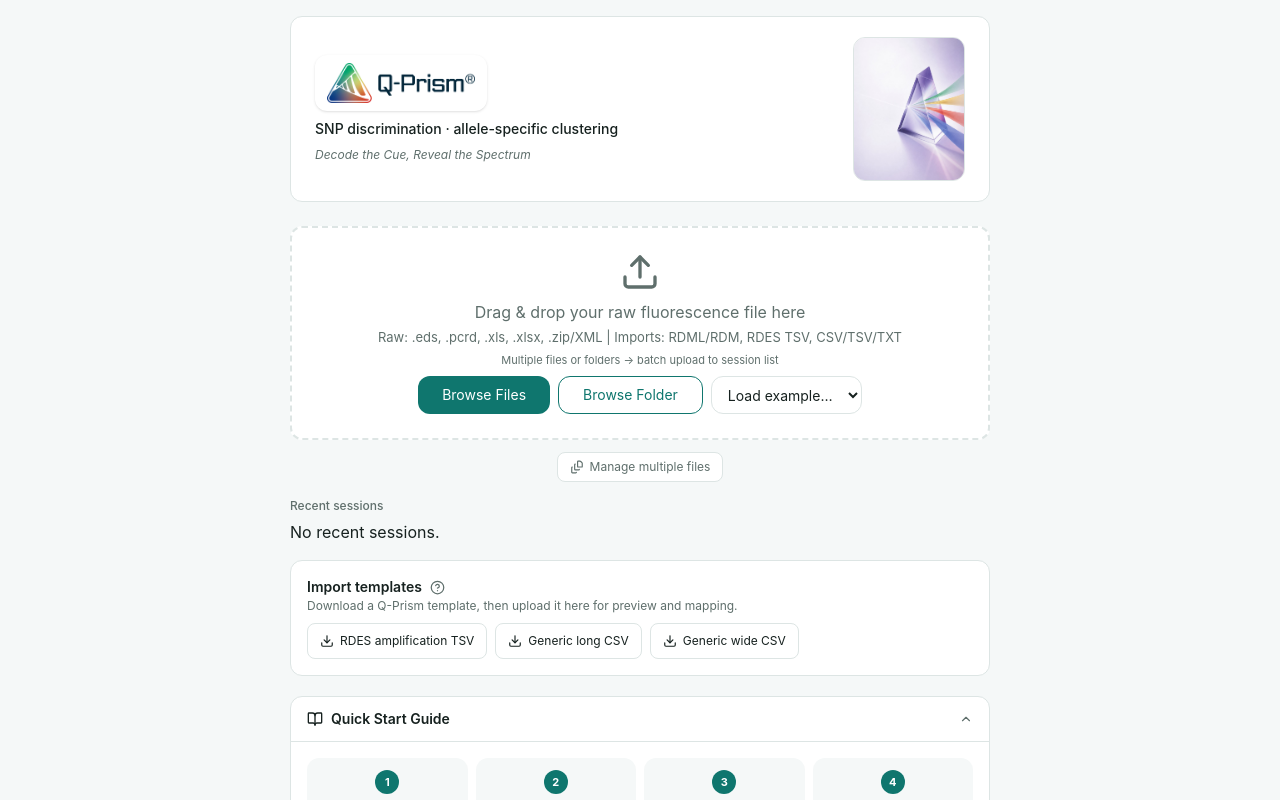
Test: keeps template help open after a real pointer focus and click sequence
Click the button named "Import template help".
click(438, 587)  # box [428,577,448,597]
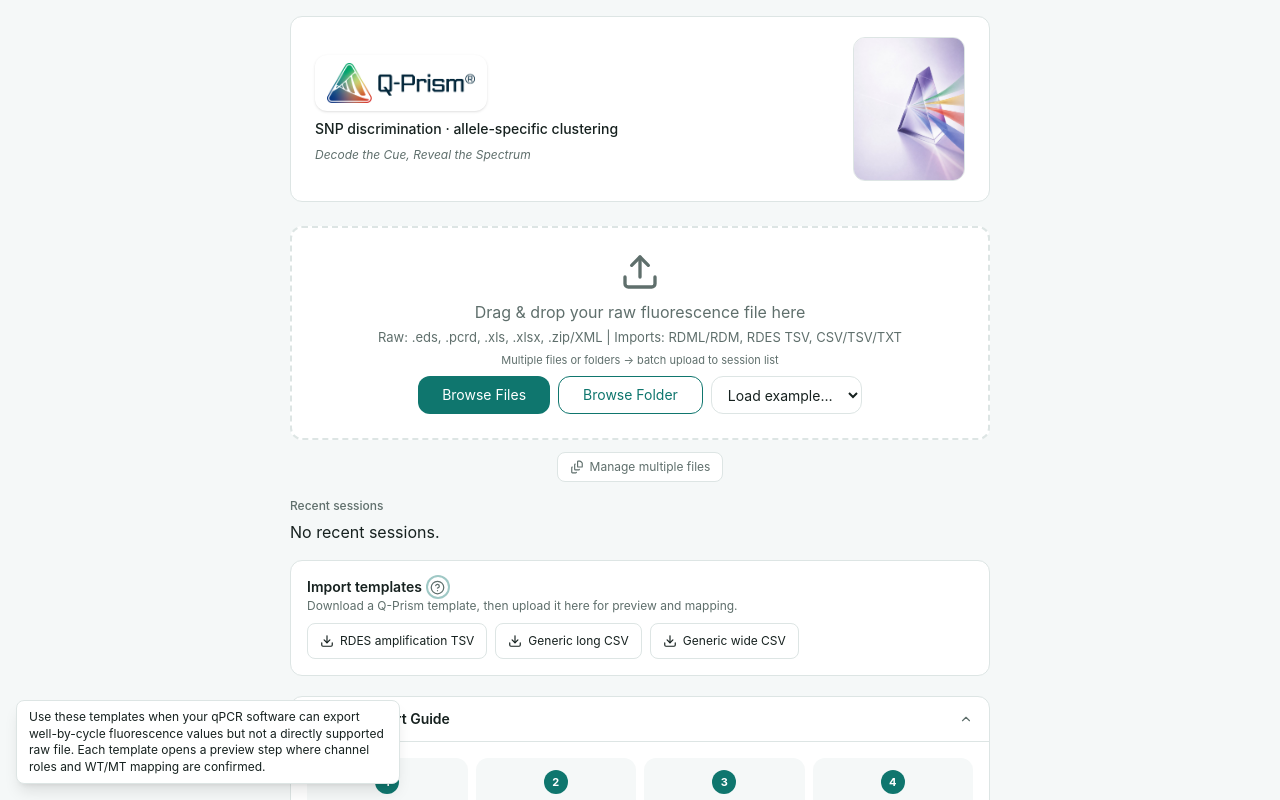
Check: the tooltip is shown, box [16,700,400,784]
